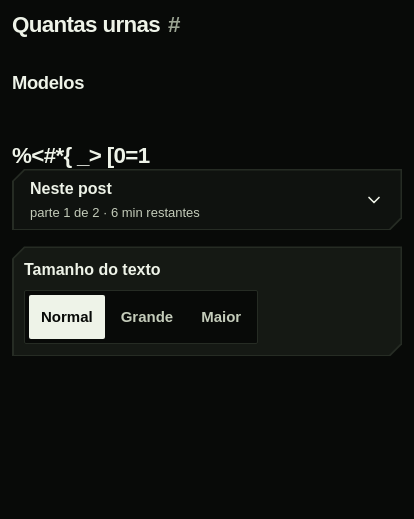
Test case: <PostSide /> › o índice abre e fecha no celular (aria-expanded)
The width and height of the screenshot is (414, 519).
Click the button "Neste post parte 1 de 2 · 6 min restantes": [71, 188] box left=12, top=169, right=402, bottom=230
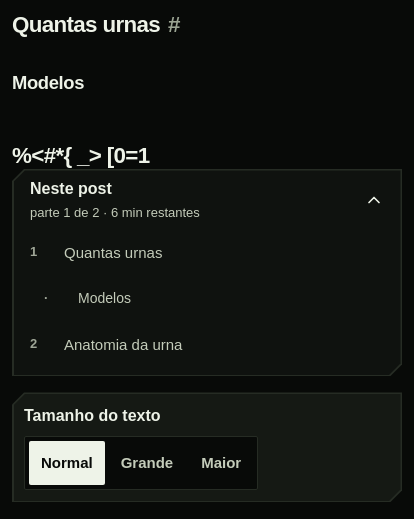
Result: the button "Neste post parte 1 de 2 · 6 min restantes" is expanded at left=12, top=169, right=402, bottom=230
